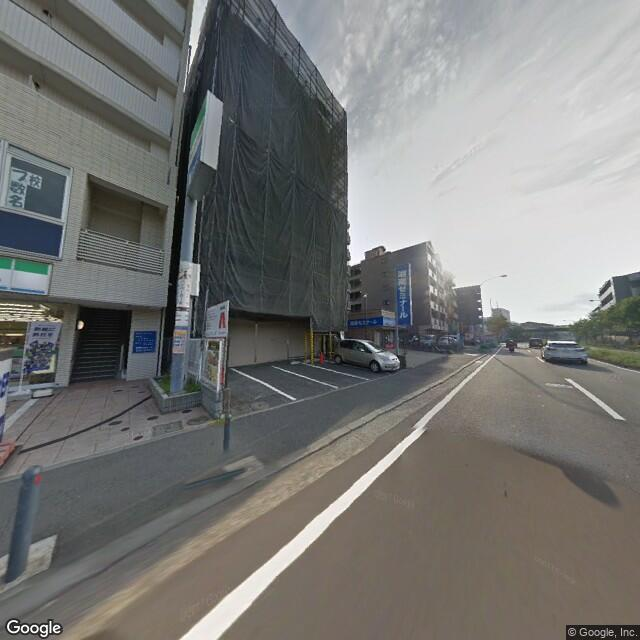family_mart: (1, 253, 51, 298)
